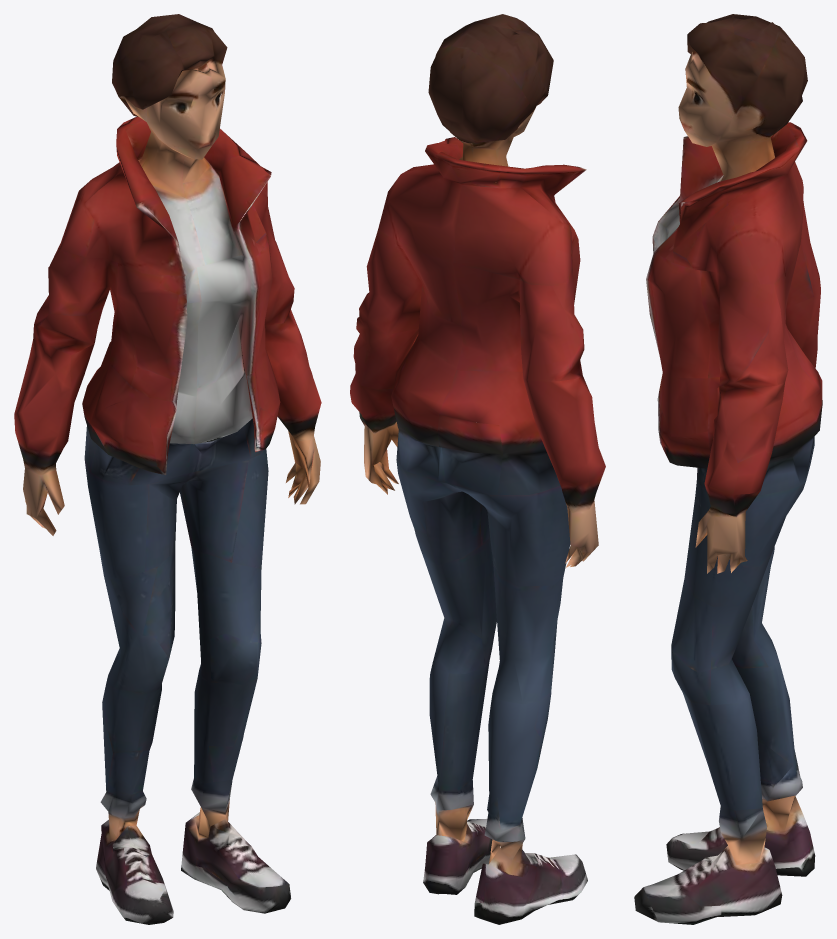
The model's file is person_woman.glb.
The picture shows the model from 3 angles, left to right: view 1: azimuth 30°, elevation 25°; view 2: azimuth 150°, elevation 25°; view 3: azimuth 270°, elevation 25°; orthographic projection.
Parts seen in each view (by area): view 1: tripo_node_baf54249-8c9e-4d30-82c2-8729a08726f4; view 2: tripo_node_baf54249-8c9e-4d30-82c2-8729a08726f4; view 3: tripo_node_baf54249-8c9e-4d30-82c2-8729a08726f4.
Part boxes in pixels (bbox=[...]): tripo_node_baf54249-8c9e-4d30-82c2-8729a08726f4: bbox=[14, 14, 321, 924]; tripo_node_baf54249-8c9e-4d30-82c2-8729a08726f4: bbox=[350, 14, 605, 924]; tripo_node_baf54249-8c9e-4d30-82c2-8729a08726f4: bbox=[634, 14, 822, 924].
Bounding box in the file's own units: 0.3131 × 0.9765 × 0.1911.
1 material, 1 textured.
